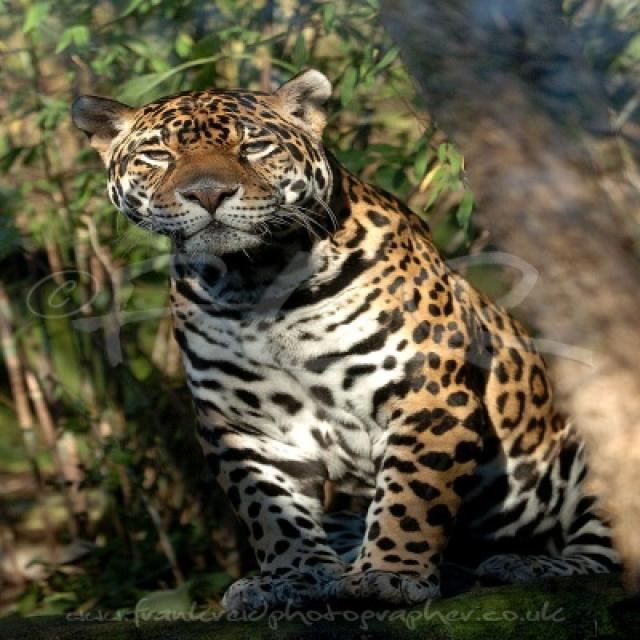Jaguar: (69, 69, 619, 622)
